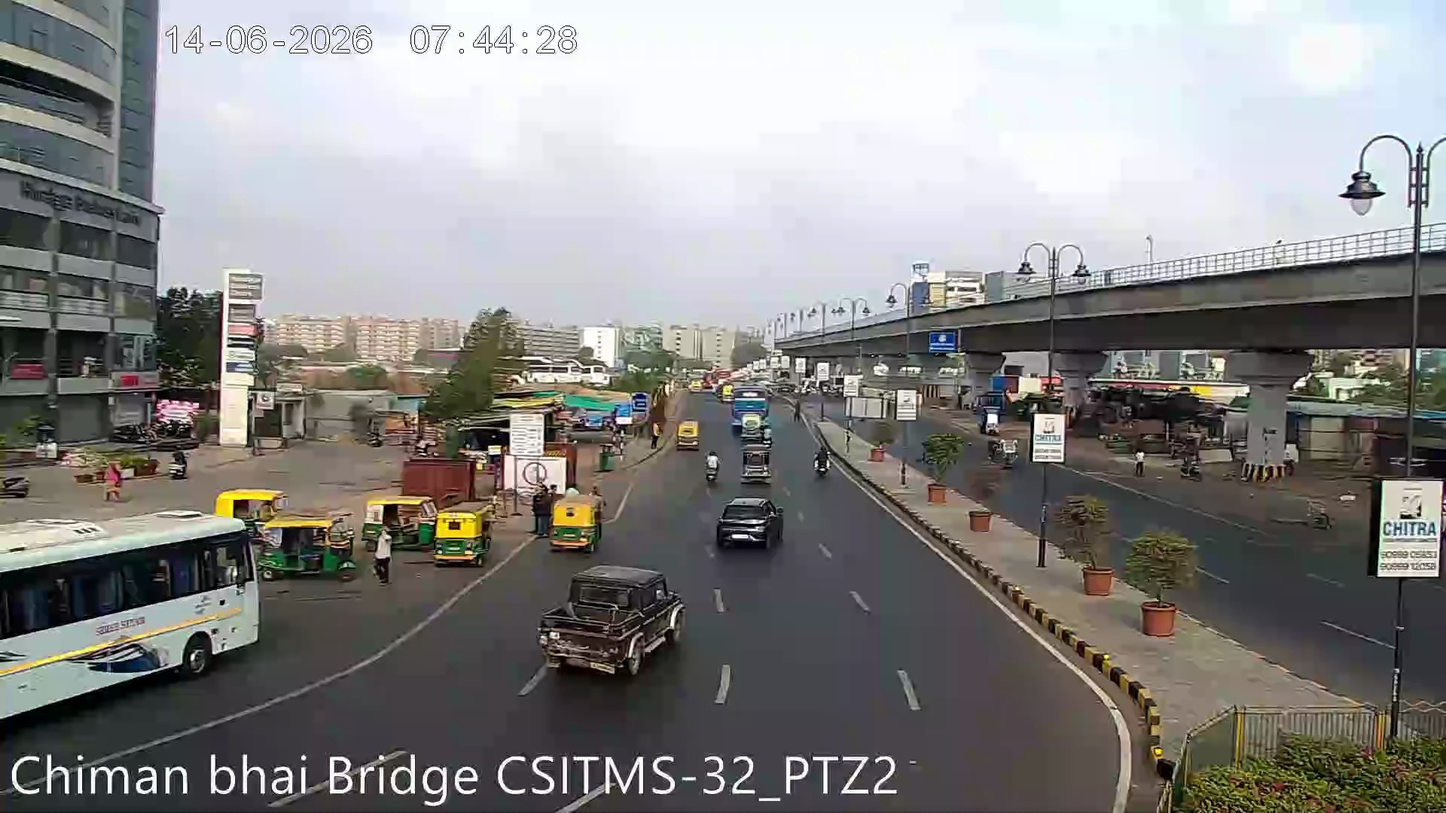auto_rickshaw: (257, 506, 356, 579), (362, 490, 438, 548), (431, 506, 491, 565), (547, 497, 601, 551), (674, 417, 701, 450)
bus: (0, 512, 281, 737), (2, 514, 272, 674)
car: (537, 560, 691, 674), (714, 491, 784, 550), (0, 454, 33, 499)
pedestrian: (370, 530, 395, 588), (1132, 444, 1149, 480), (647, 419, 663, 453), (895, 456, 911, 489)
two_wheeler: (811, 441, 832, 481), (703, 444, 722, 484)
